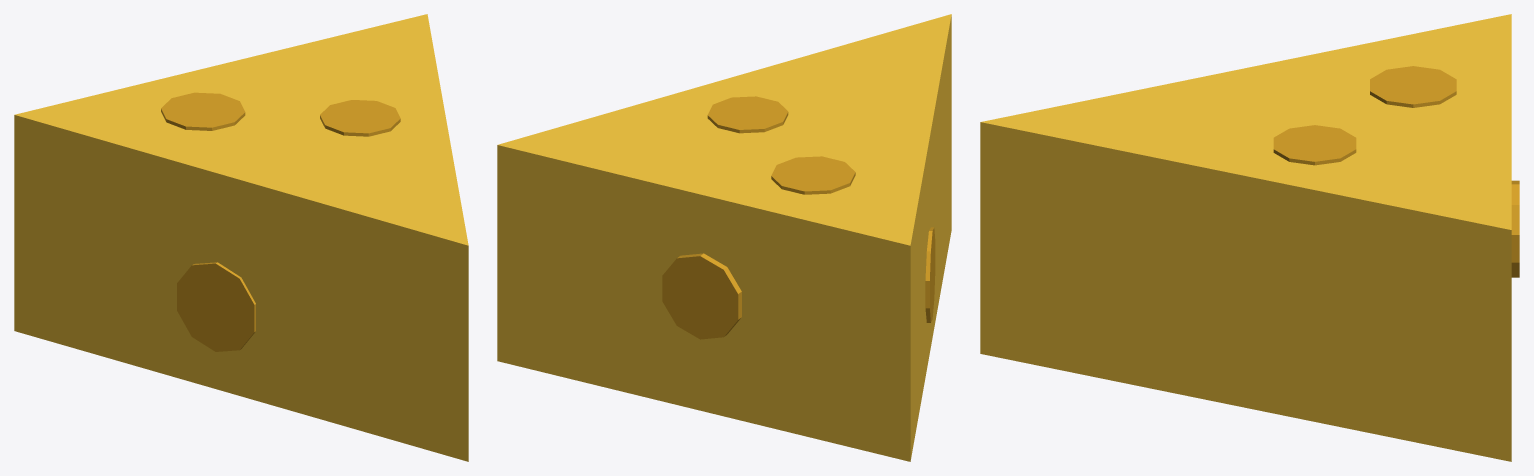
The model's file is food_cheese.glb.
3 renders of one model, left to right at view 1: azimuth 30°, elevation 25°; view 2: azimuth 150°, elevation 25°; view 3: azimuth 270°, elevation 25°, orthographic. The views are drawn at different scales.
Visible parts, largest first — view 1: food_cheese; view 2: food_cheese; view 3: food_cheese.
Boxes of the visible parts, x1=… form: food_cheese: x1=14, y1=14, x2=468, y2=461; food_cheese: x1=497, y1=14, x2=951, y2=461; food_cheese: x1=980, y1=14, x2=1519, y2=461.
Bounding box in the file's own units: 0.26 × 0.132 × 0.274.
